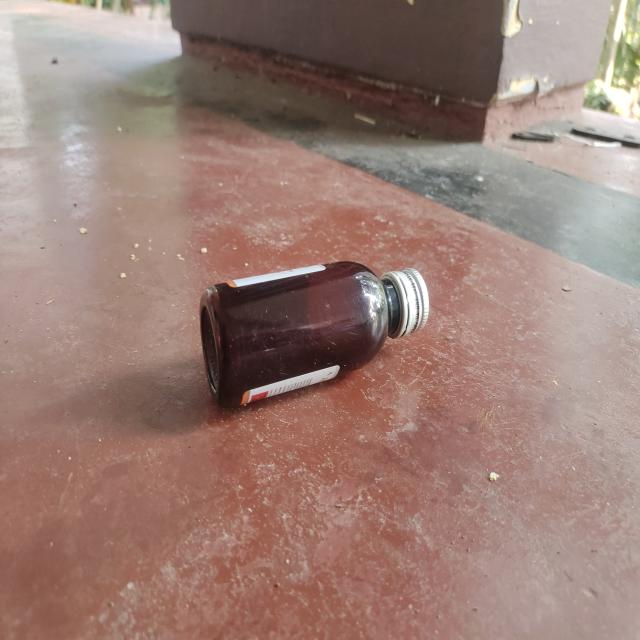plastic: (195, 256, 431, 408)
